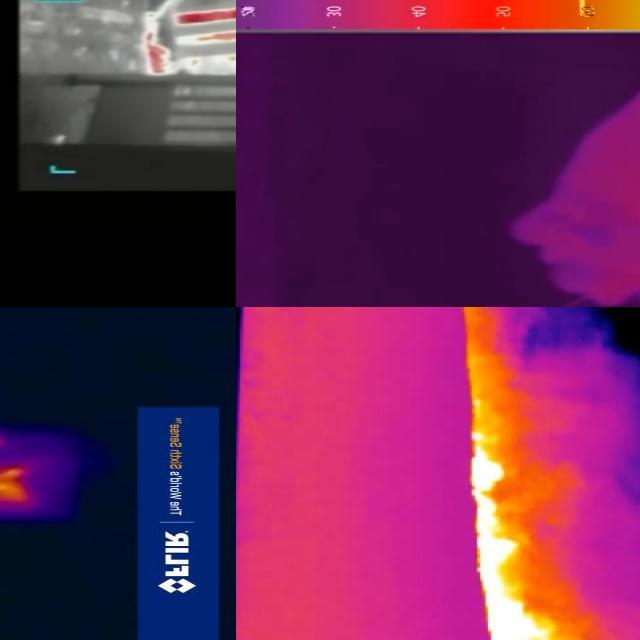fire: (467, 425, 581, 640), (1, 423, 30, 519)
